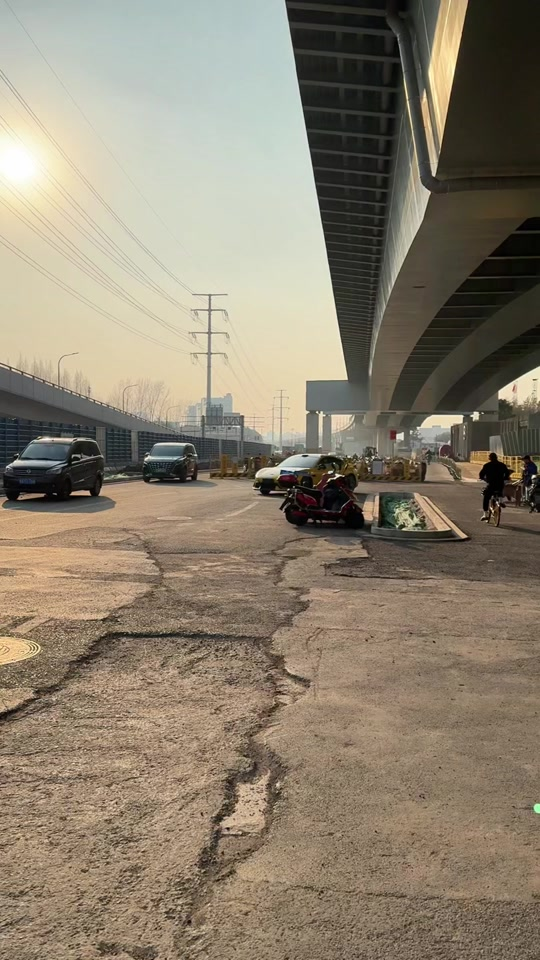other: (0, 436, 115, 502), (142, 433, 202, 486)
